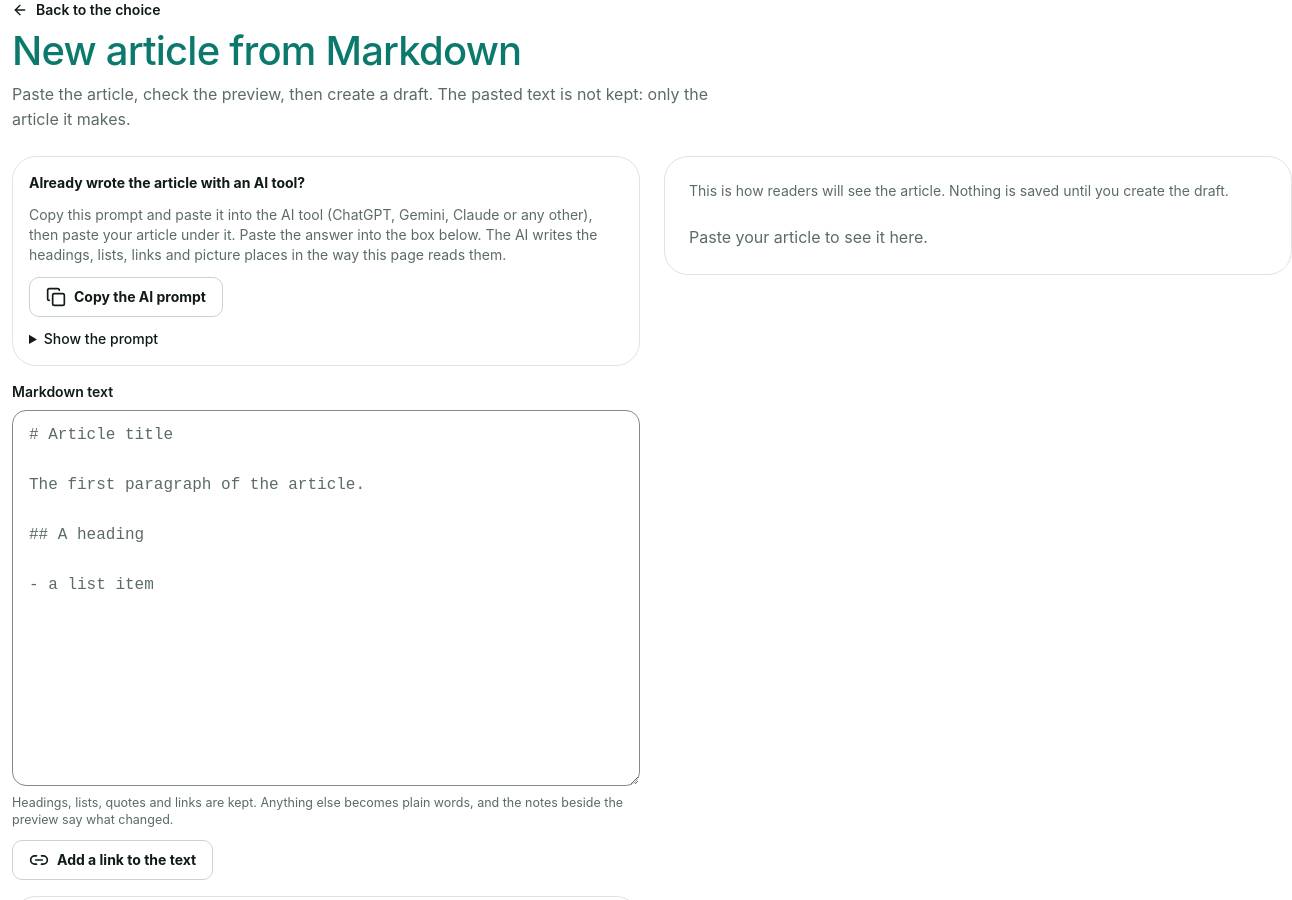
Scenario: BlogMarkdownFlow: the paste screen (ADR-172) › puts a refused save's problems on their boxes and moves focus to the first
Replace the text in the text box labelled "Markdown text" with "# text" at (326,598), box x1=12 y1=410 x2=640 y2=786
(page scrolled)
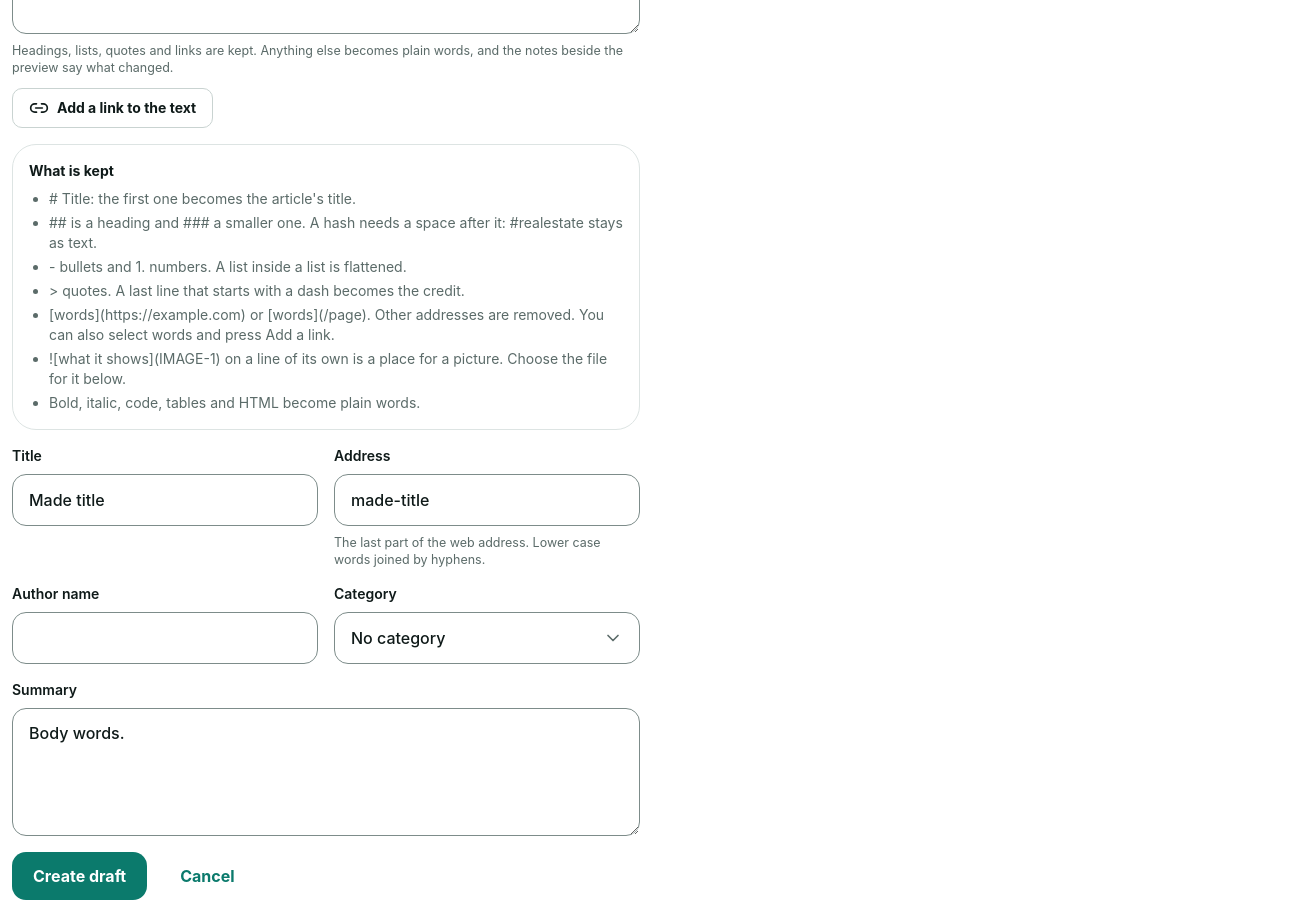
Type "Asha Rao" into the field labelled "Author name" at (165,638), box x1=12 y1=612 x2=318 y2=664
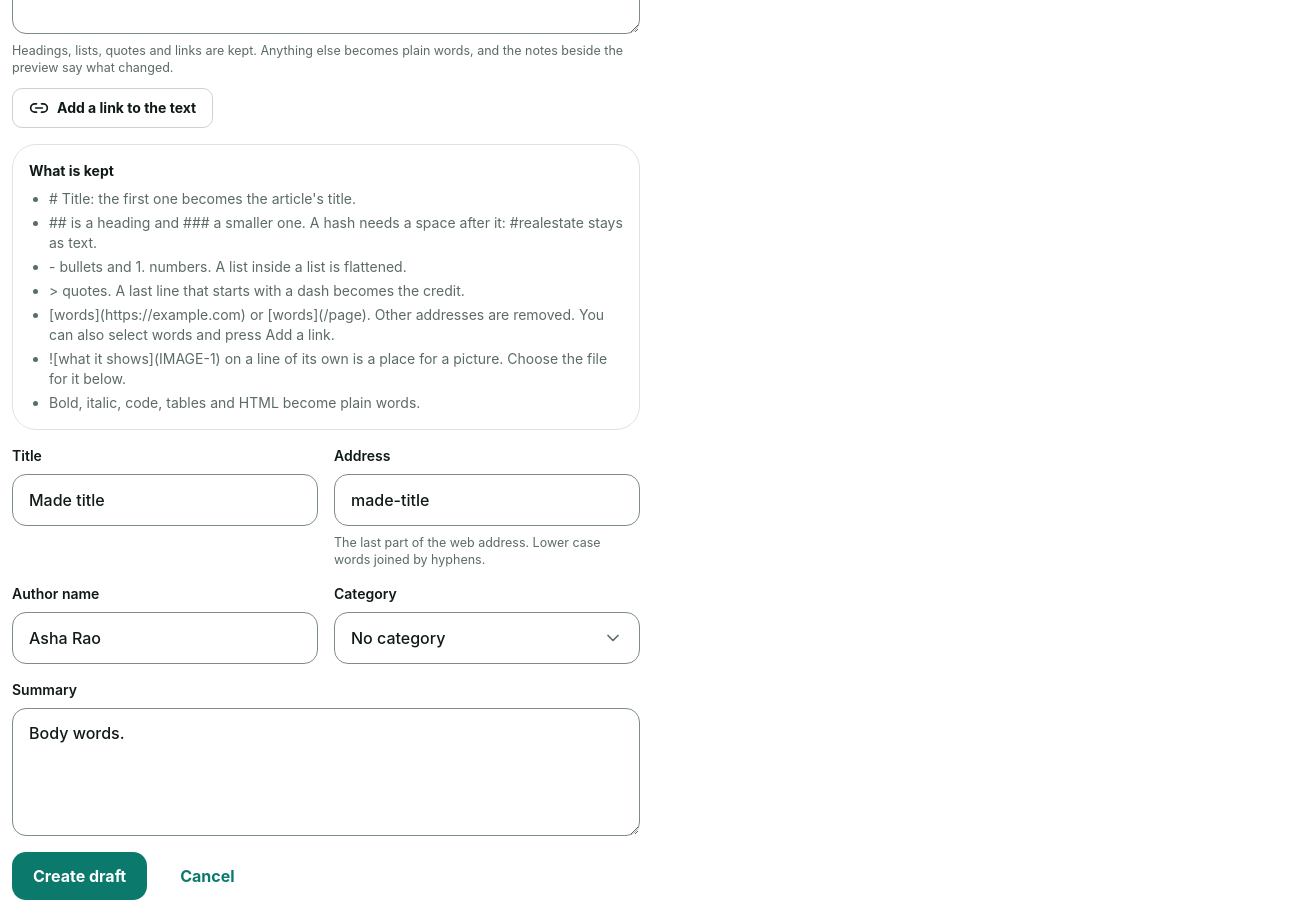
Click the button "Create draft" at (80,876), box x1=12 y1=852 x2=147 y2=899
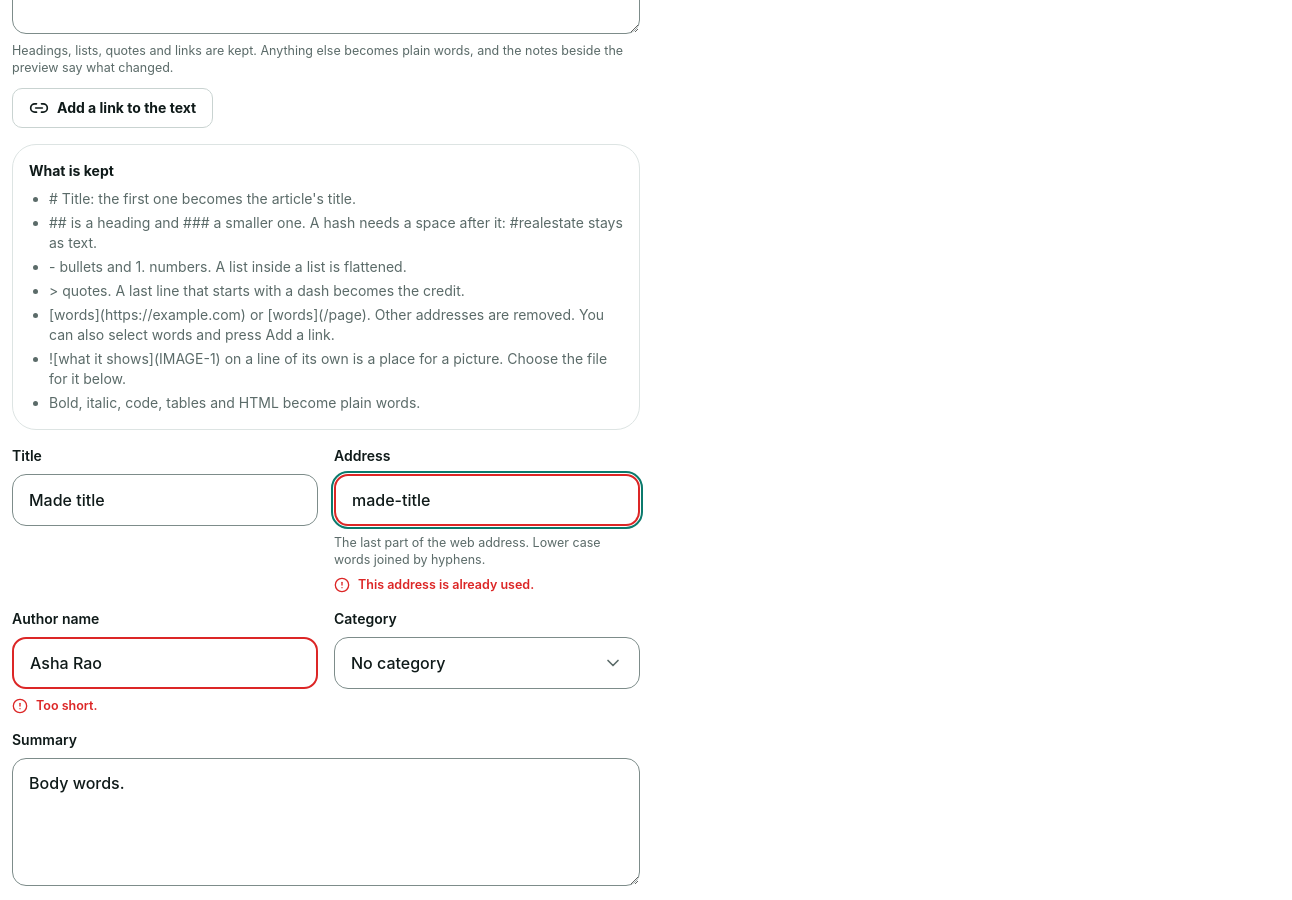
Result: the field labelled "Title" holds "Made title" at x1=12 y1=474 x2=318 y2=526
Result: the text "This address is already used." is shown at x1=334 y1=577 x2=534 y2=593
